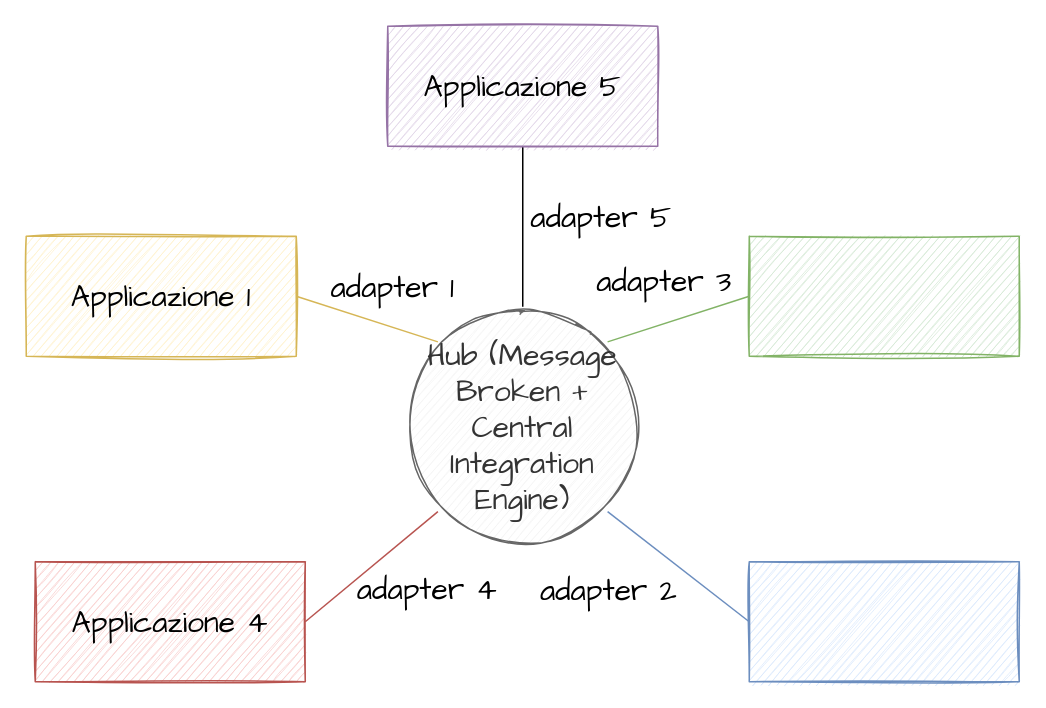
The diagram is 1046 pixels wide and 708 high, and some of its shapes have lost their labels. The shapes that lost their labels are listed below. From the top down, each one's centre as x and y in pixels, then its label:
(x=883, y=295): Applicazione 3
(x=883, y=621): Applicazione 2
